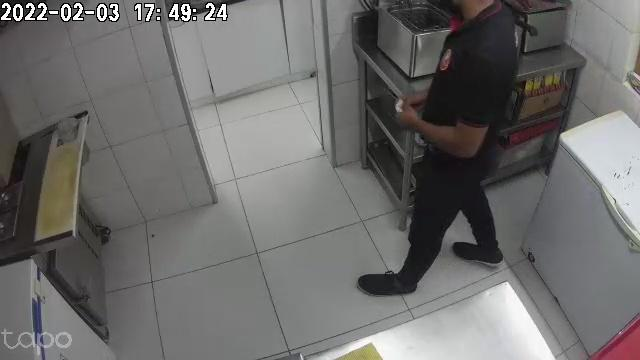no_gloves: (395, 104, 431, 132)
